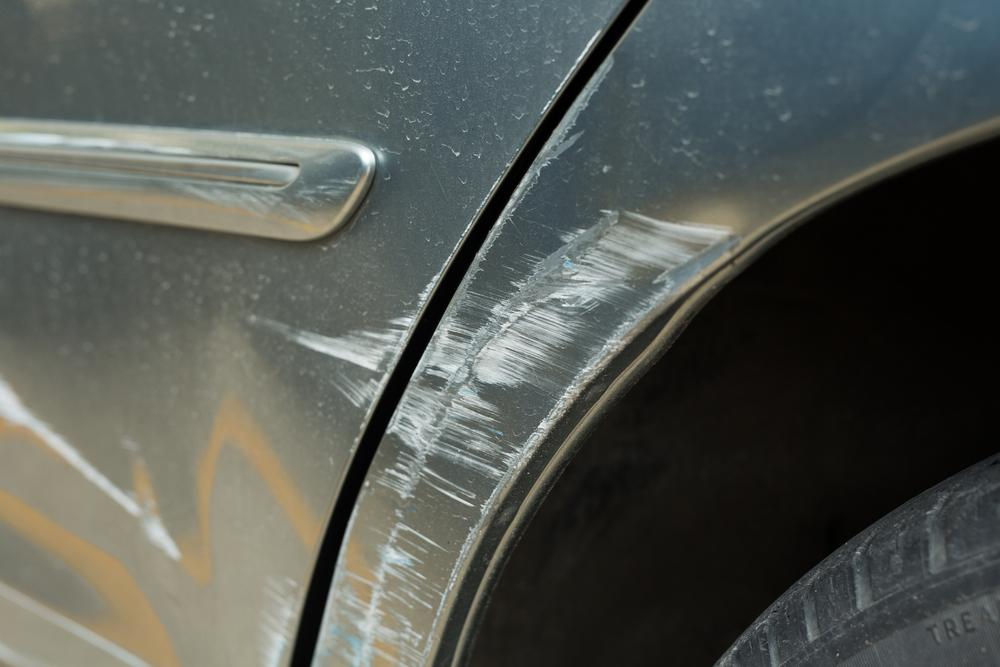scratch: (311, 209, 751, 667), (256, 272, 438, 451), (256, 571, 311, 667)
